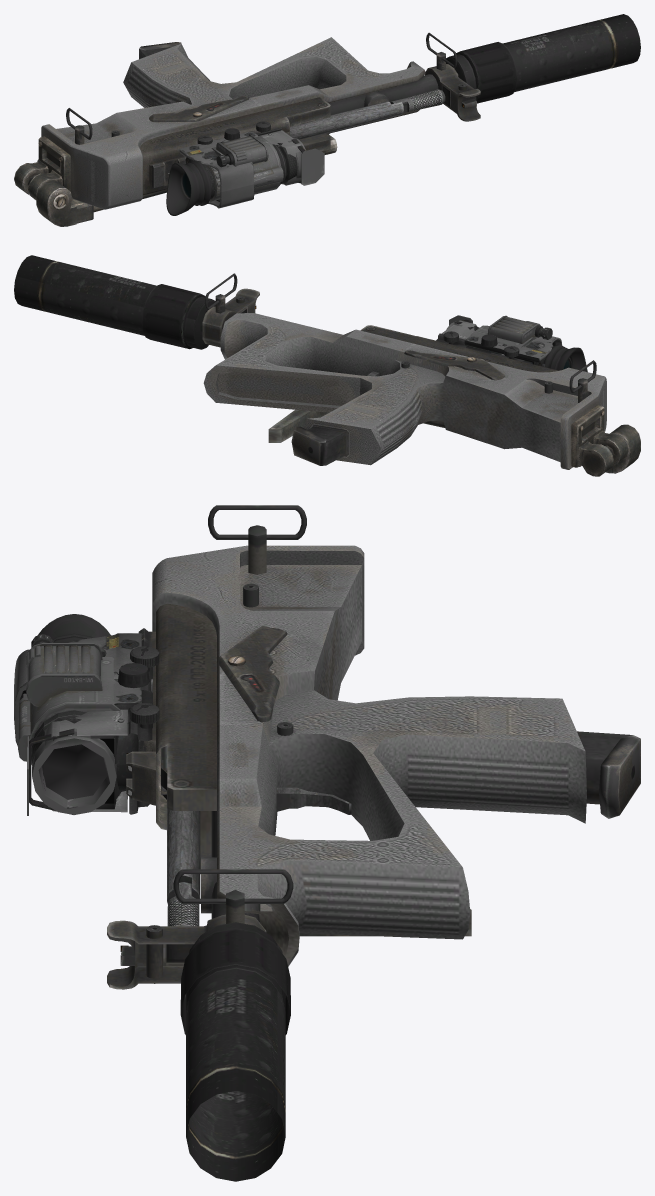
Rendered from viewmodel_p2000_LOD0.obj.
3 views of the same model, one above another, from view 1: azimuth 30°, elevation 25°; view 2: azimuth 150°, elevation 25°; view 3: azimuth 270°, elevation 25° (orthographic). The views are drawn at different scales.
Parts seen in each view (by area): view 1: mtl_weapon_pp2000_plastic, mtl_weapon_pp2000_metal, mtl_weapon_suppressor_b, mtl_weapon_thermal_sight_2, mtl_weapon_eotech_2, mtl_weapon_red_dot_sight; view 2: mtl_weapon_pp2000_plastic, mtl_weapon_pp2000_metal, mtl_weapon_suppressor_b, mtl_weapon_thermal_sight_2, mtl_weapon_eotech_2, mtl_weapon_red_dot_sight; view 3: mtl_weapon_pp2000_plastic, mtl_weapon_pp2000_metal, mtl_weapon_suppressor_b, mtl_weapon_thermal_sight_2, mtl_weapon_red_dot_sight, mtl_weapon_eotech_2, mtl_weapon_thermal_lens_2.
Boxes of the visible parts, <box> form: mtl_weapon_pp2000_plastic: <box>41,37,425,209</box>; mtl_weapon_pp2000_metal: <box>14,32,480,226</box>; mtl_weapon_suppressor_b: <box>446,14,640,103</box>; mtl_weapon_thermal_sight_2: <box>166,128,324,215</box>; mtl_weapon_eotech_2: <box>179,131,258,208</box>; mtl_weapon_red_dot_sight: <box>197,121,301,185</box>; mtl_weapon_pp2000_plastic: <box>203,313,606,469</box>; mtl_weapon_pp2000_metal: <box>202,273,640,476</box>; mtl_weapon_suppressor_b: <box>14,255,215,349</box>; mtl_weapon_thermal_sight_2: <box>446,315,587,372</box>; mtl_weapon_eotech_2: <box>464,335,562,366</box>; mtl_weapon_red_dot_sight: <box>436,320,524,361</box>; mtl_weapon_pp2000_plastic: <box>152,545,586,966</box>; mtl_weapon_pp2000_metal: <box>107,505,640,989</box>; mtl_weapon_suppressor_b: <box>180,922,290,1181</box>; mtl_weapon_thermal_sight_2: <box>18,614,149,815</box>; mtl_weapon_red_dot_sight: <box>43,646,159,814</box>; mtl_weapon_eotech_2: <box>14,633,152,790</box>; mtl_weapon_thermal_lens_2: <box>41,744,107,799</box>.
Size of the model in its own units: 55.85 by 8.78 by 25.94.
